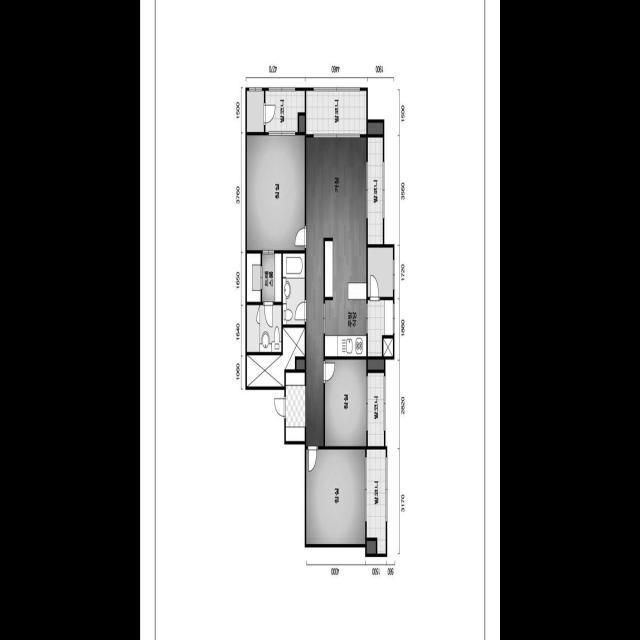background: (140, 0, 500, 640)
space_balconi: (368, 247, 393, 356), (306, 91, 366, 135), (247, 90, 305, 132), (366, 449, 386, 554), (368, 137, 383, 244), (368, 372, 384, 446)
space_bedroom: (247, 135, 305, 250), (306, 449, 365, 544), (325, 359, 366, 446)
space_dressroom: (247, 253, 282, 302)
space_front: (286, 372, 306, 441)
space_kitchen: (325, 237, 366, 356)
space_living_room: (306, 137, 366, 446)
space_other: (247, 327, 305, 386), (383, 337, 393, 356)
space_toilet: (247, 304, 282, 352), (283, 253, 305, 324)
